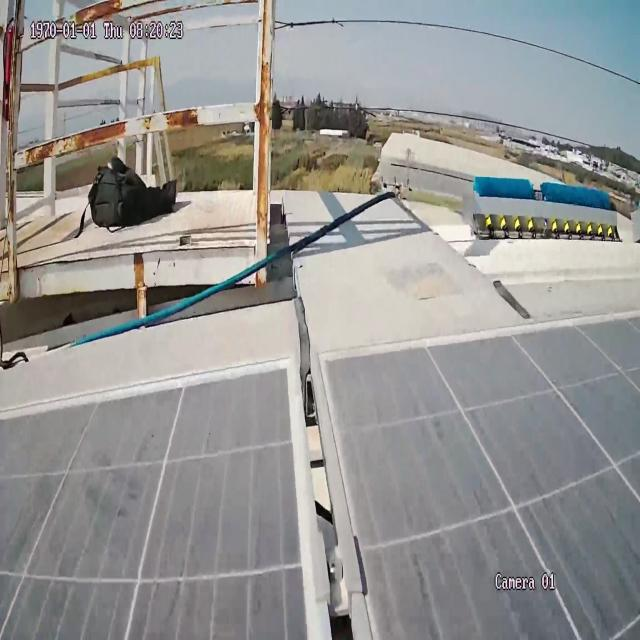interior panel: (256, 353, 406, 640)
